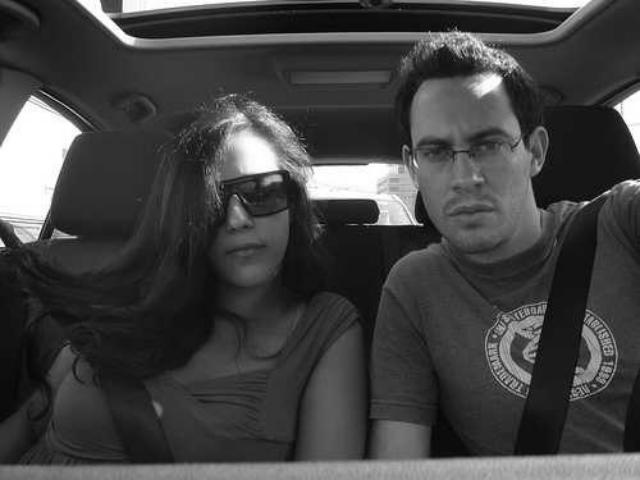SafeDriving: (470, 132, 508, 161), (418, 140, 457, 165)
Seatbelt: (1, 218, 180, 468), (509, 191, 613, 458)
